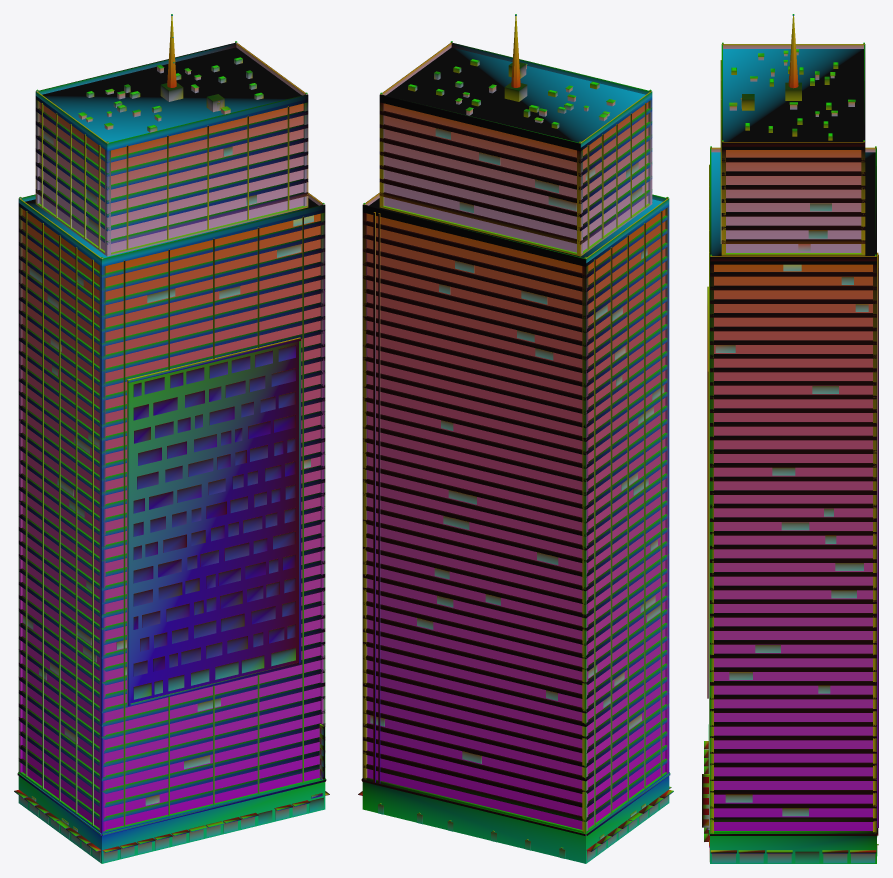
Rendered from Tower_Monolith_V12.fbx.
3 views of the same model, side by side, from view 1: azimuth 30°, elevation 25°; view 2: azimuth 150°, elevation 25°; view 3: azimuth 270°, elevation 25° (orthographic).
Parts seen in each view (by area): view 1: Tower_Monolith_V12_LOD0; view 2: Tower_Monolith_V12_LOD0; view 3: Tower_Monolith_V12_LOD0.
Part boxes in pixels (box(x1,y1,x2,y2)): Tower_Monolith_V12_LOD0: box(14, 14, 329, 863); Tower_Monolith_V12_LOD0: box(358, 14, 673, 863); Tower_Monolith_V12_LOD0: box(702, 14, 878, 863).
Size of what is drawn, in the model's own units: 64.8 by 210 by 42.31.
